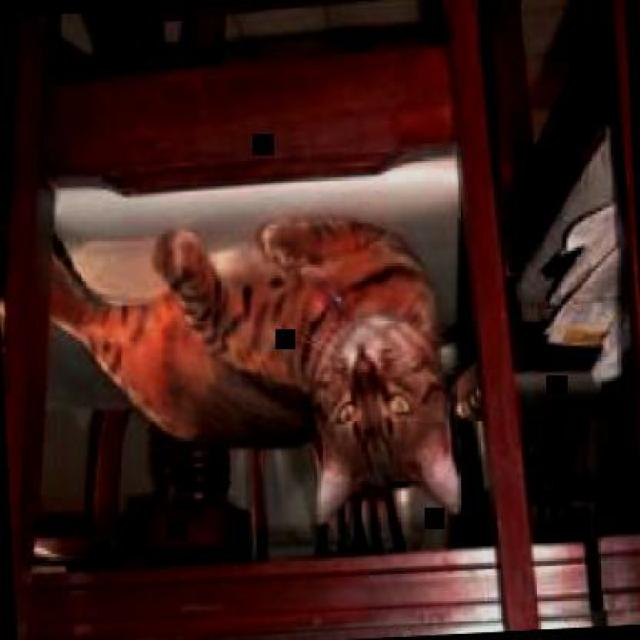cat: (45, 206, 463, 540)
